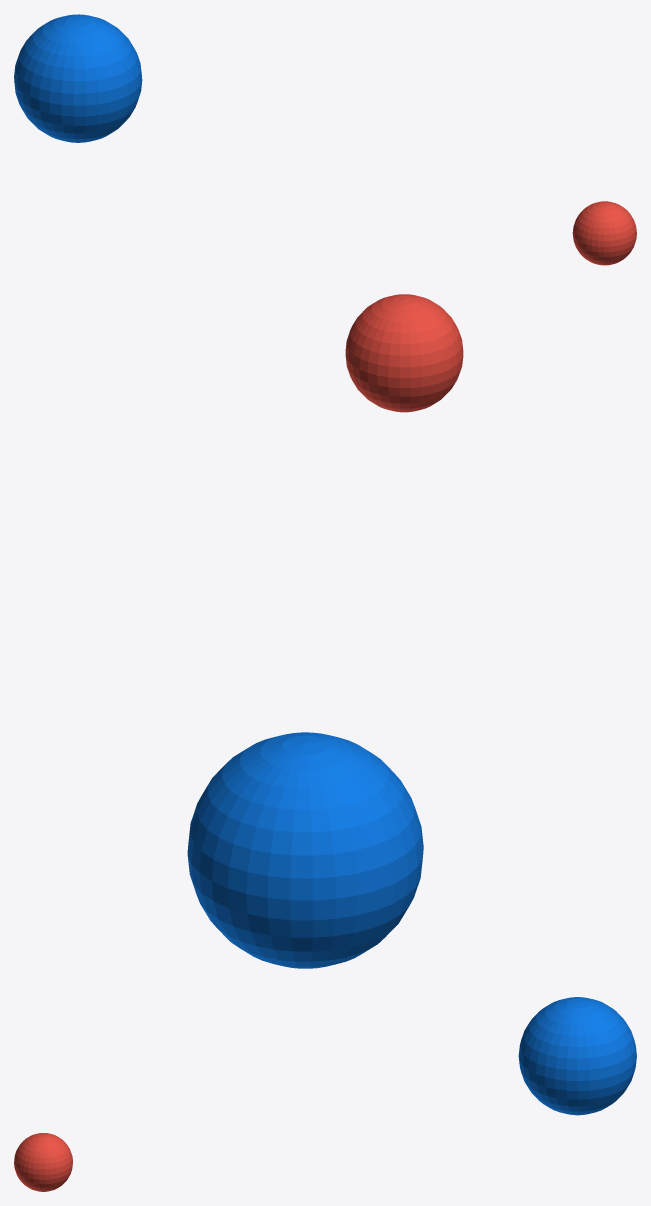
The model's file is hydrogen.fbx.
3 views of the same model, one above another, from view 1: azimuth 30°, elevation 25°; view 2: azimuth 150°, elevation 25°; view 3: azimuth 270°, elevation 25° (orthographic). The views are drawn at different scales.
Visible parts, largest first — view 1: Sphere.001, Sphere; view 2: Sphere.001, Sphere; view 3: Sphere.001, Sphere.
Part boxes in pixels (box(x1,y1,x2,y2)): Sphere.001: box(14, 14, 142, 142); Sphere: box(572, 201, 636, 265); Sphere.001: box(187, 732, 423, 968); Sphere: box(345, 294, 463, 412); Sphere.001: box(518, 997, 636, 1115); Sphere: box(14, 1133, 72, 1191).
Size of the model in its own units: 287 by 100 by 526.
